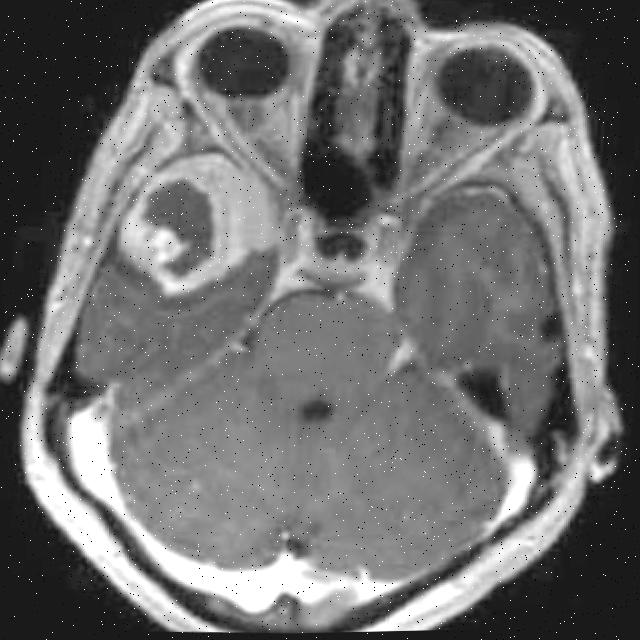Meningioma: (112, 144, 284, 301)
